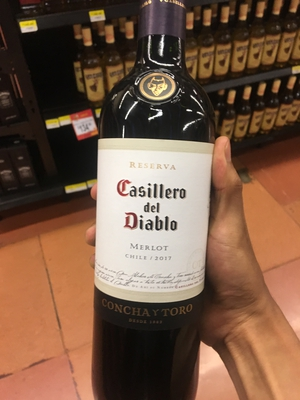casillero del diablo merlot: (88, 13, 227, 400)
